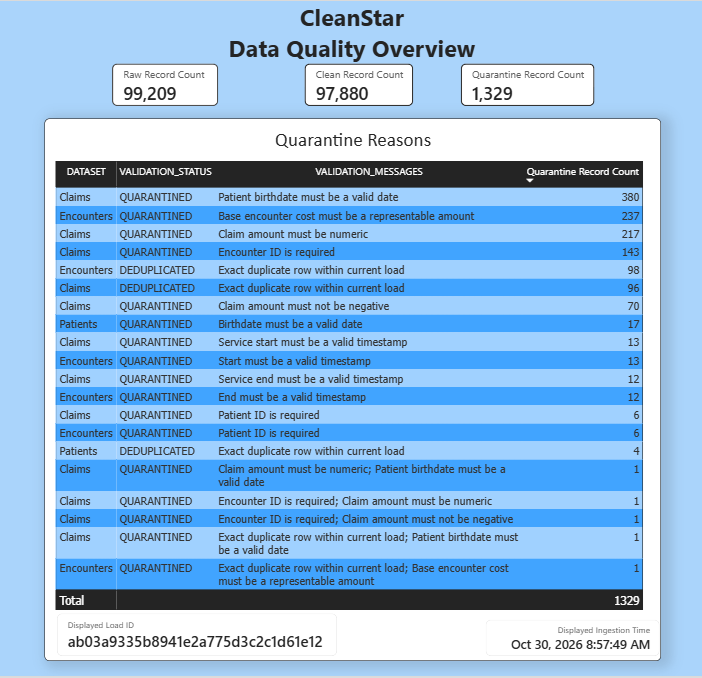

The page's visual inventory and layout, read from the dashboard file:
{"tool":"powerbi","page":{"name":"Page 1","canvas":[1920,1080],"ordinal":0},"visuals":[{"type":"cardVisual","fields":{"Data":["Raw Records.Raw Record Count"]},"box":[576,100,170,68],"z":0,"group":"g2"},{"type":"cardVisual","fields":{"Data":["Clean Records.Clean Record Count"]},"box":[884,100,174,68],"z":1000,"group":"g2"},{"type":"cardVisual","fields":{"Data":["Quarantine Records.Quarantine Record Count"]},"box":[1134,100,214,68],"z":2000,"group":"g2"},{"type":"tableEx","title":"Quarantine Reasons","fields":{"Values":["Quarantine Records.DATASET","Quarantine Records.VALIDATION_STATUS","Quarantine Records.VALIDATION_MESSAGES","Quarantine Records.Quarantine Record Count"]},"box":[468,188,986,868],"z":3000,"group":"g1"},{"type":"textbox","box":[658,0,604,100],"z":4000},{"type":"cardVisual","fields":{"Data":["Raw Records.Displayed Load ID"]},"box":[488,980,448,68],"z":5000,"group":"g1"},{"type":"cardVisual","fields":{"Data":["Raw Records.Displayed Ingestion Time"]},"box":[1174,990,278,58],"z":6000,"group":"g1"},{"type":"group","id":"g1","title":"Group 1","box":[468,188,986,868],"z":6001},{"type":"group","id":"g2","title":"Group 2","box":[576,100,772,68],"z":6002}]}

Visuals, with their boxes on the page's 1920x1080 design canvas (x1, y1, x2, y2). These are canvas units, not pixel positions in the 702x678 screenshot, which may show the page scaled, cropped or inside an application window:
cardVisual - Raw Records.Raw Record Count: 576 100 746 168
cardVisual - Clean Records.Clean Record Count: 884 100 1058 168
cardVisual - Quarantine Records.Quarantine Record Count: 1134 100 1348 168
"Quarantine Reasons" tableEx: 468 188 1454 1056
textbox: 658 0 1262 100
cardVisual - Raw Records.Displayed Load ID: 488 980 936 1048
cardVisual - Raw Records.Displayed Ingestion Time: 1174 990 1452 1048
"Group 1" group: 468 188 1454 1056
"Group 2" group: 576 100 1348 168
